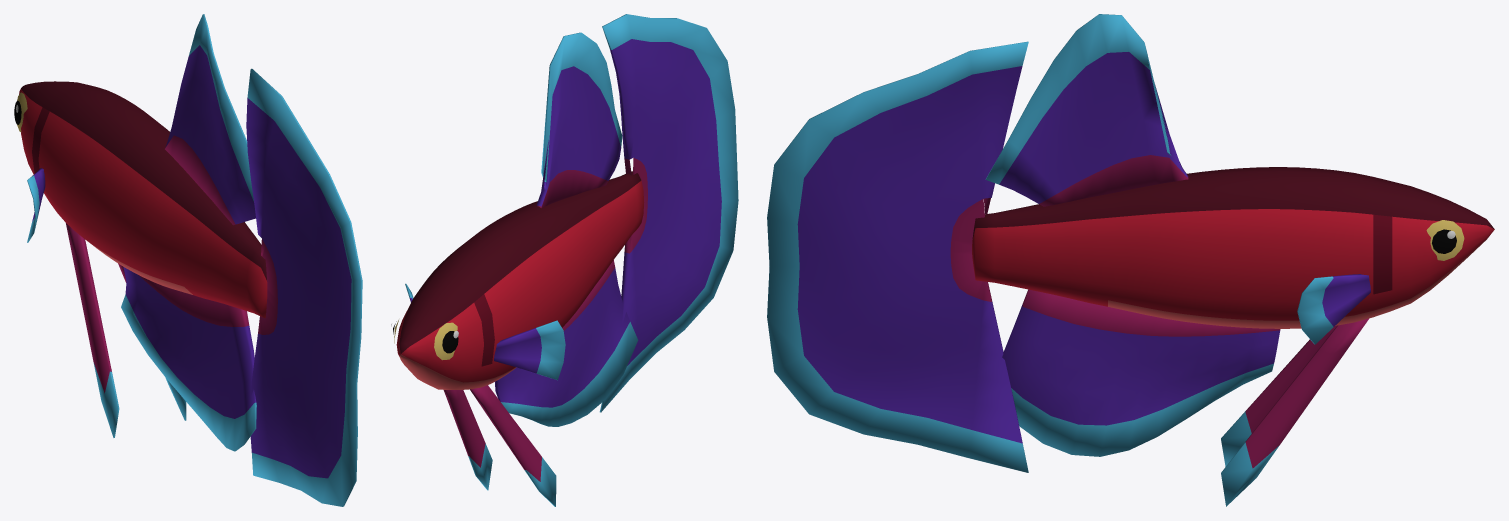
The model's file is betta.glb.
3 renders of one model, left to right at view 1: azimuth 30°, elevation 25°; view 2: azimuth 150°, elevation 25°; view 3: azimuth 270°, elevation 25°, orthographic. The views are drawn at different scales.
Visible parts, largest first — view 1: betta; view 2: betta; view 3: betta.
Boxes of the visible parts, left/top/right/bottom form: betta: left=14, top=14, right=362, bottom=506; betta: left=391, top=14, right=738, bottom=506; betta: left=767, top=14, right=1494, bottom=506.
Bounding box in the file's own units: 0.7678 × 2.05 × 2.85.
